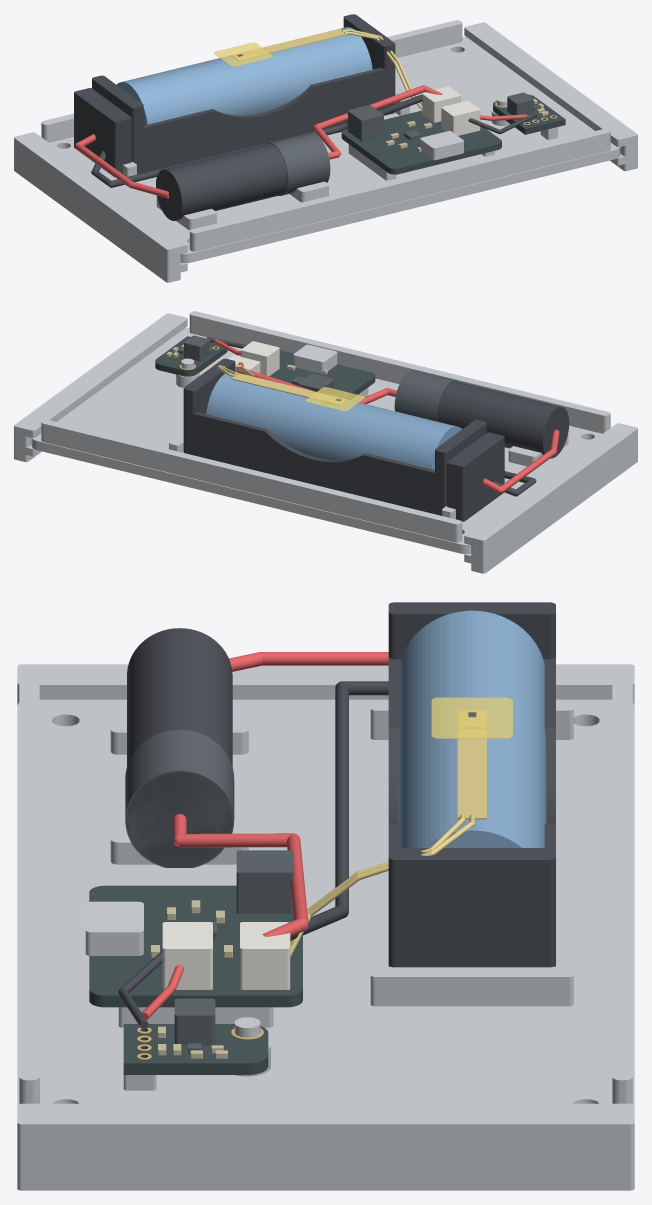
The model's file is AFP_FE_Node_Rev0_2_tray.glb.
The picture shows the model from 3 angles, top to bottom: view 1: azimuth 30°, elevation 25°; view 2: azimuth 150°, elevation 25°; view 3: azimuth 270°, elevation 25°; orthographic projection. The views are drawn at different scales.
Parts seen in each view (by area): view 1: PC_tray_floor, LiIon_cell_sleeved, Tray_end_wall_46.5, PP_holder_side_91.45, FDI_fuseholder_body_proxy, PC_slide_lip_-101, PC_slide_lip_29, PC_slide_rail_-101, PCB_6091_32x26p3, PCM_end_envelope, Tray_end_wall_119.5, Fuseholder_cap_proxy (+18 smaller); view 2: PC_tray_floor, LiIon_cell_sleeved, Tray_end_wall_119.5, PP_holder_side_110.55, Tray_end_wall_46.5, FDI_fuseholder_body_proxy, PC_slide_lip_-101, PC_slide_lip_29, PC_slide_rail_-101, PCM_end_envelope, Fuseholder_cap_proxy, PCB_6091_32x26p3 (+15 smaller); view 3: PC_tray_floor, PC_slide_rail_29, LiIon_cell_sleeved, PC_slide_lip_29, Holder_endwall_-13.25, FDI_fuseholder_body_proxy, PCB_6091_32x26p3, PC_slide_lip_-101, Fuseholder_cap_proxy, Tray_end_wall_46.5, Tray_end_wall_119.5, PC_holder_stop_-10.200000000000003 (+21 smaller).
Boxes of the visible parts, x1=… form: PC_tray_floor: x1=50, y1=36, x2=620, y2=262; LiIon_cell_sleeved: x1=116, y1=27, x2=372, y2=125; Tray_end_wall_46.5: x1=189, y1=128, x2=610, y2=251; PP_holder_side_91.45: x1=139, y1=67, x2=389, y2=169; FDI_fuseholder_body_proxy: x1=156, y1=143, x2=287, y2=220; PC_slide_lip_-101: x1=14, y1=132, x2=187, y2=256; PC_slide_lip_29: x1=464, y1=22, x2=637, y2=147; PC_slide_rail_-101: x1=14, y1=145, x2=180, y2=282; PCB_6091_32x26p3: x1=341, y1=110, x2=501, y2=174; PCM_end_envelope: x1=74, y1=88, x2=131, y2=177; Tray_end_wall_119.5: x1=41, y1=20, x2=462, y2=142; Fuseholder_cap_proxy: x1=266, y1=132, x2=330, y2=195; PC_tray_floor: x1=31, y1=327, x2=602, y2=553; LiIon_cell_sleeved: x1=206, y1=372, x2=461, y2=469; Tray_end_wall_119.5: x1=41, y1=419, x2=462, y2=542; PP_holder_side_110.55: x1=189, y1=412, x2=438, y2=513; Tray_end_wall_46.5: x1=189, y1=311, x2=610, y2=433; FDI_fuseholder_body_proxy: x1=437, y1=381, x2=569, y2=458; PC_slide_lip_-101: x1=464, y1=423, x2=637, y2=547; PC_slide_lip_29: x1=14, y1=313, x2=187, y2=437; PC_slide_rail_-101: x1=471, y1=436, x2=637, y2=573; PCM_end_envelope: x1=447, y1=432, x2=504, y2=521; Fuseholder_cap_proxy: x1=394, y1=370, x2=458, y2=421; PCB_6091_32x26p3: x1=269, y1=350, x2=375, y2=399; PC_tray_floor: x1=17, y1=699, x2=634, y2=1104; PC_slide_rail_29: x1=17, y1=1138, x2=634, y2=1190; LiIon_cell_sleeved: x1=398, y1=610, x2=546, y2=847; PC_slide_lip_29: x1=17, y1=1103, x2=634, y2=1138; Holder_endwall_-13.25: x1=388, y1=848, x2=555, y2=967; FDI_fuseholder_body_proxy: x1=127, y1=628, x2=232, y2=867; PCB_6091_32x26p3: x1=89, y1=885, x2=302, y2=1007; PC_slide_lip_-101: x1=17, y1=664, x2=634, y2=699; Fuseholder_cap_proxy: x1=125, y1=729, x2=234, y2=867; Tray_end_wall_46.5: x1=19, y1=671, x2=39, y2=1103; Tray_end_wall_119.5: x1=612, y1=671, x2=632, y2=1103; PC_holder_stop_-10.200000000000003: x1=370, y1=966, x2=573, y2=1006.
Size of the model in its own units: 0.134 by 0.0269 by 0.076.
